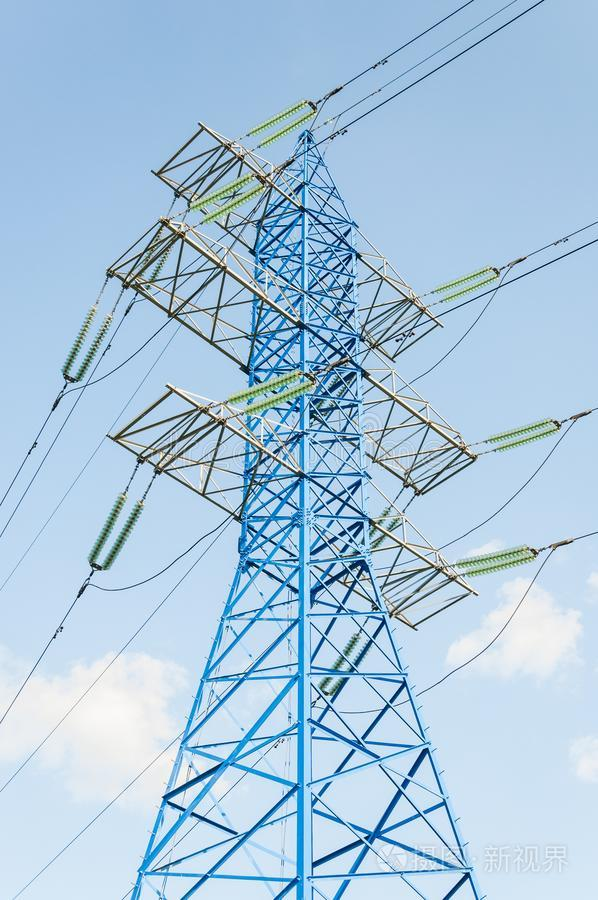insulator: (87, 493, 143, 572), (231, 368, 318, 416), (191, 172, 267, 224), (62, 304, 112, 381), (252, 99, 314, 145), (458, 542, 531, 575), (490, 418, 556, 452), (433, 265, 495, 301)
